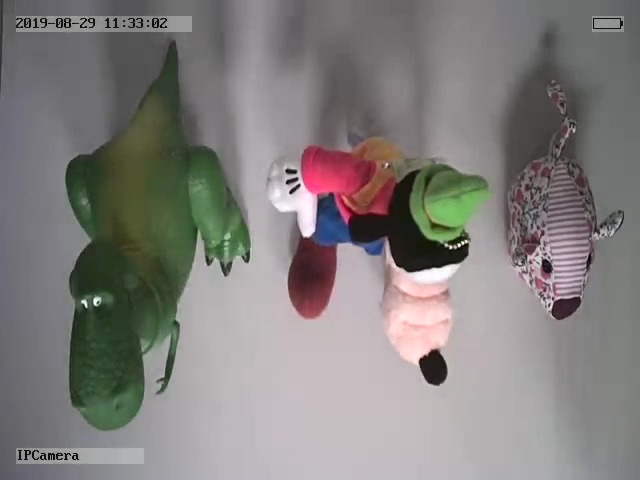goofy: (265, 135, 489, 387)
pig: (504, 78, 624, 321)
rex: (62, 39, 251, 431)
